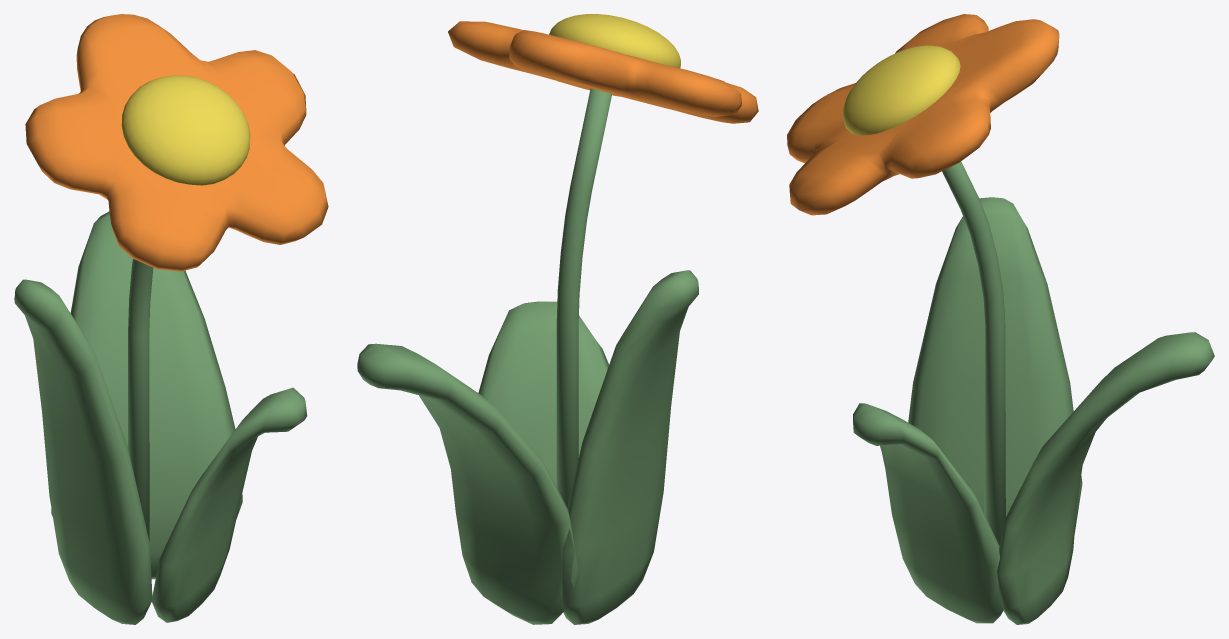
File: flower4.fbx
The picture shows the model from 3 angles, left to right: view 1: azimuth 30°, elevation 25°; view 2: azimuth 150°, elevation 25°; view 3: azimuth 270°, elevation 25°; orthographic projection. The views are drawn at different scales.
Parts seen in each view (by area): view 1: flower5; view 2: flower5; view 3: flower5.
Boxes of the visible parts, x1,y1,x2,y2 form: flower5: [14, 14, 328, 624]; flower5: [357, 14, 758, 624]; flower5: [787, 14, 1214, 624].
Size of the model in its own units: 104 by 210 by 143.
